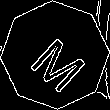M_NE: (21, 21, 89, 89)
